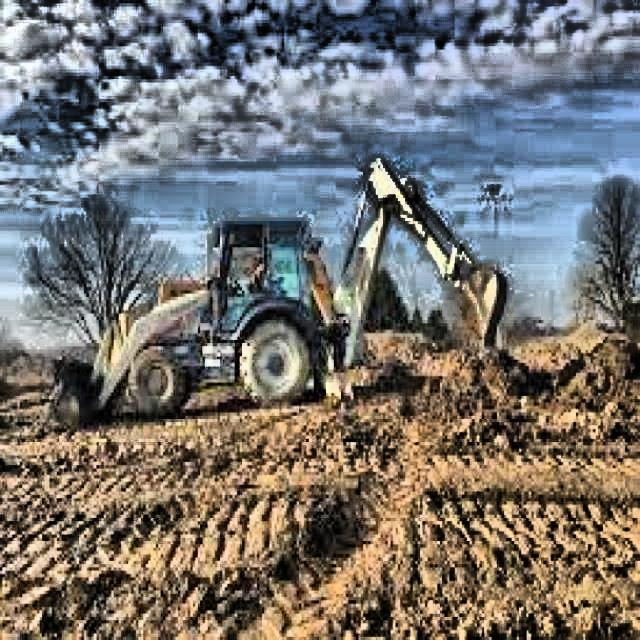bull_dozer/loader/grader: (30, 152, 512, 442)
person: (245, 252, 265, 285)
